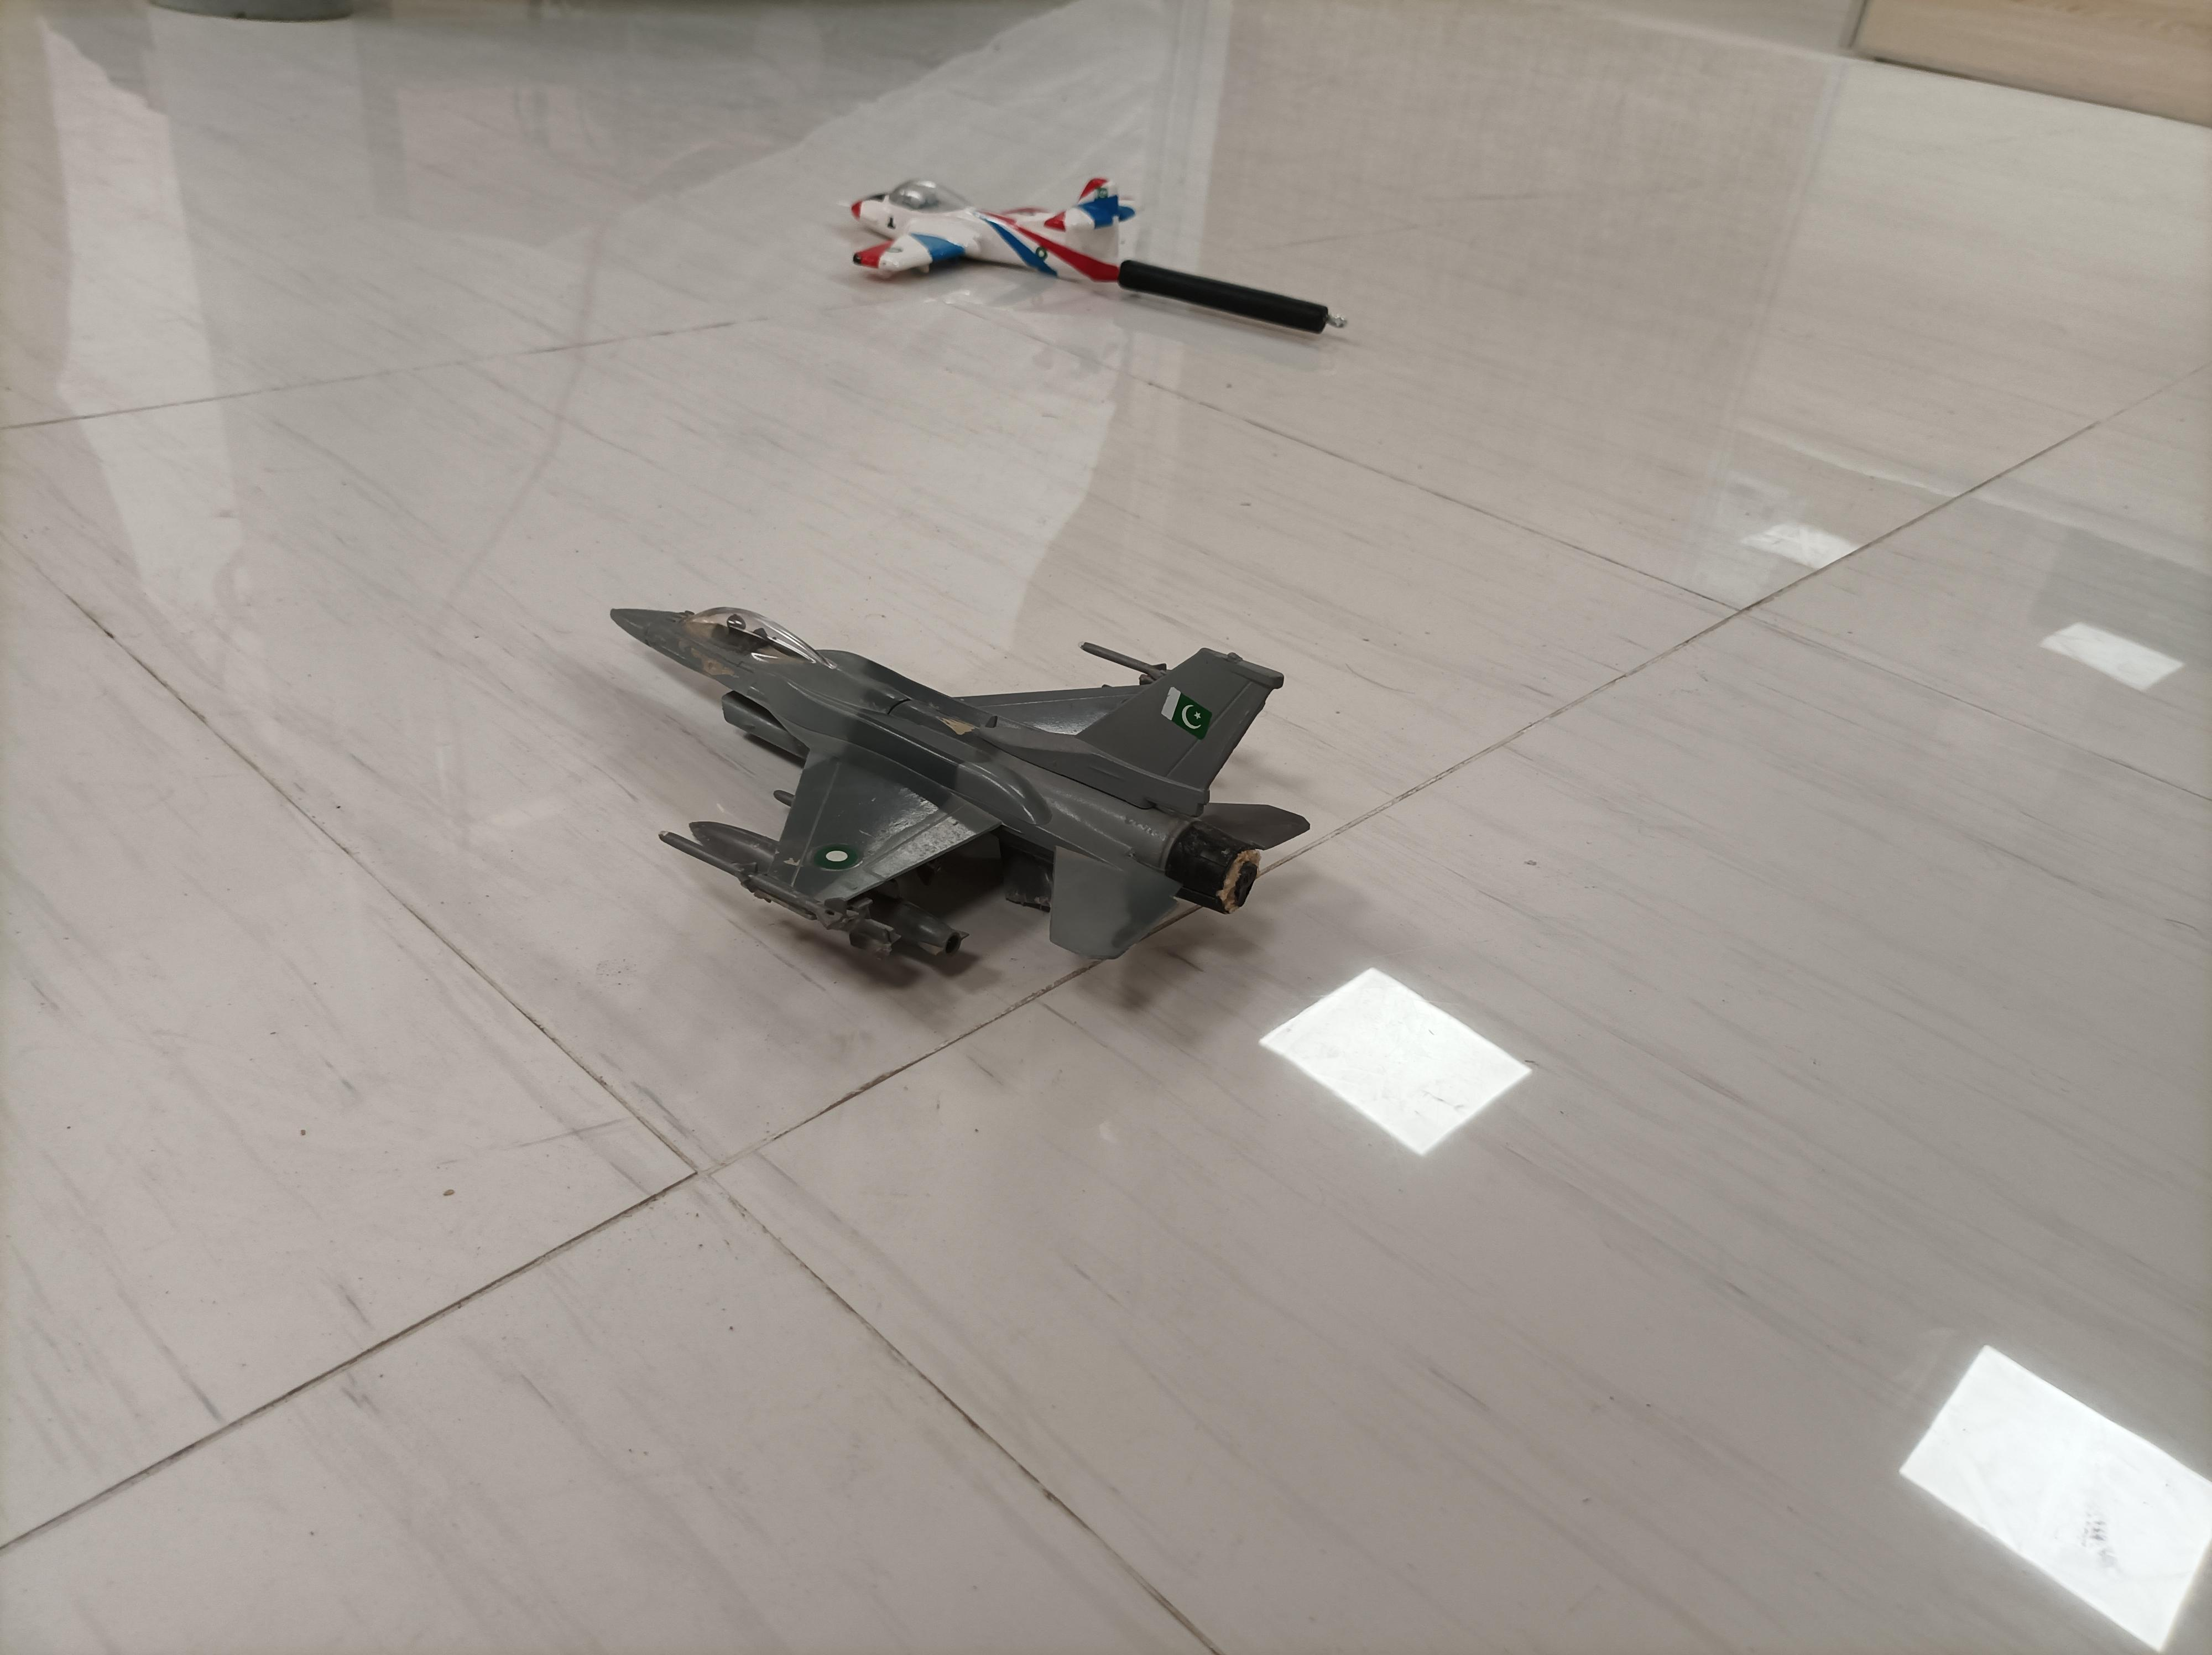Airplane: (584, 534, 1328, 1029), (832, 139, 1147, 337)
